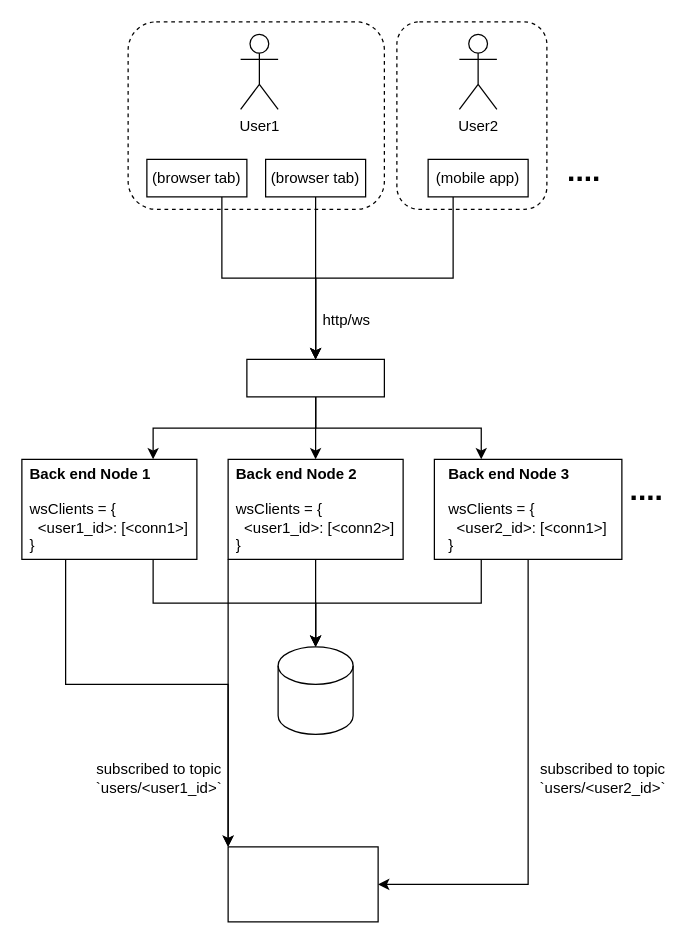
Image size: 700x944. Some labels were removed from this diagram. Each missing label, with the box of its shape:
DB: (277, 646, 353, 734)
Load Balancer (LB): (246, 358, 384, 397)
pub/sub Message Broker: (227, 846, 378, 922)
